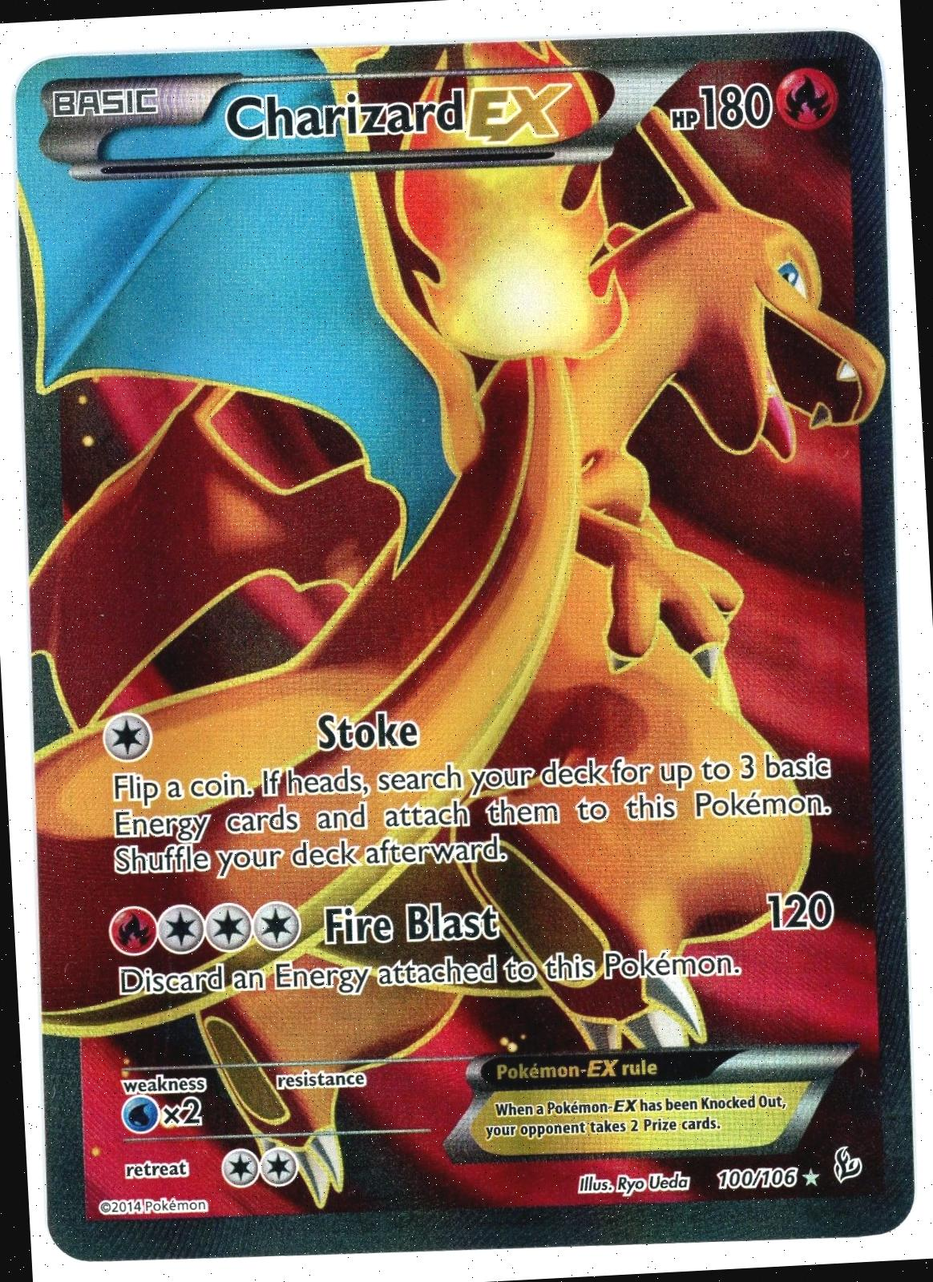card-2UtV: (15, 30, 915, 1262)
